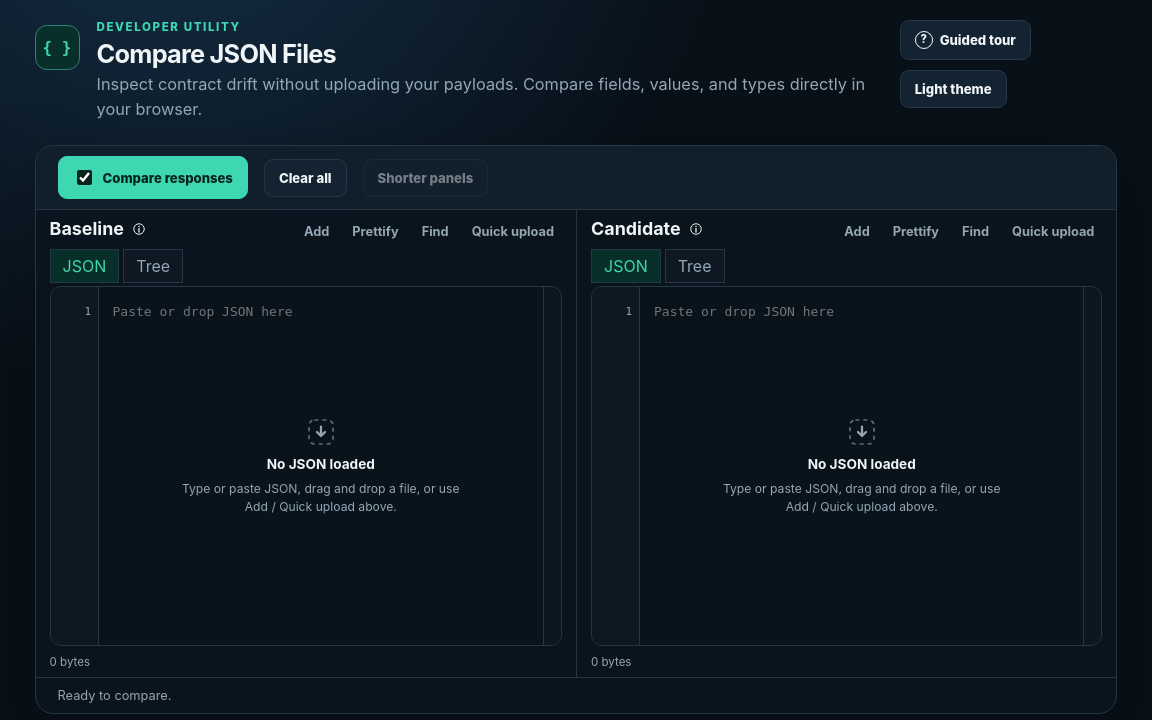
it: Comparer JSON panel layout › switches the document theme and keeps the toggle label in sync
The width and height of the screenshot is (1152, 720).
Click the button with aria-label "Switch to light theme" at (953, 89), box [900,70,1007,108]
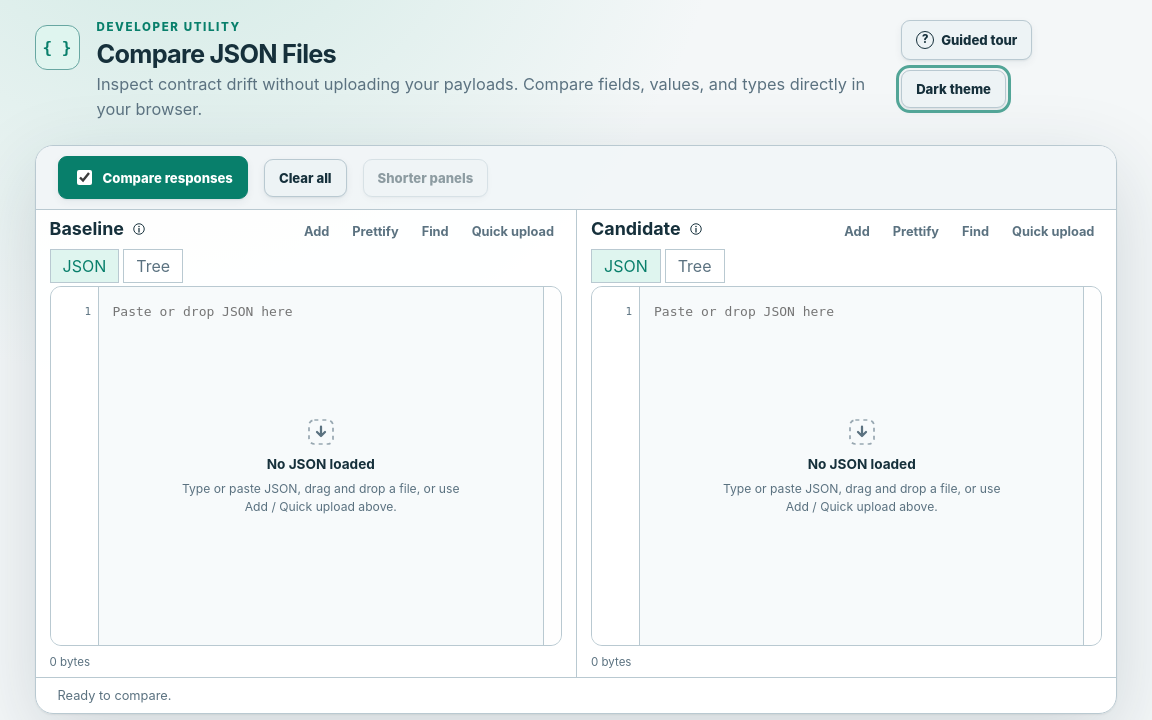
Expected: the button with aria-label "Switch to dark theme" is shown, [901,70,1006,108]
